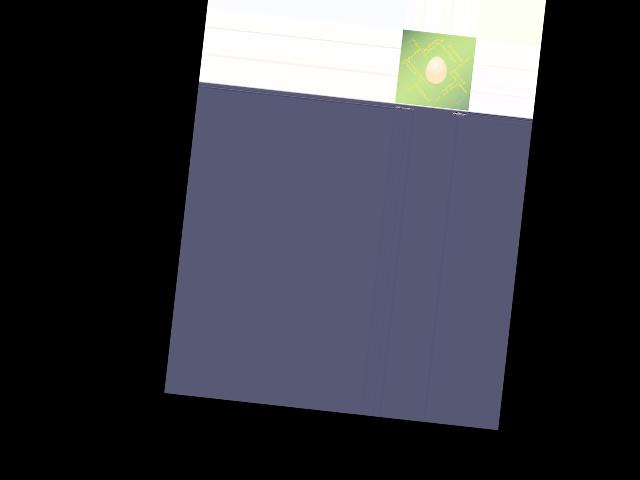egg: (424, 55, 447, 84)
